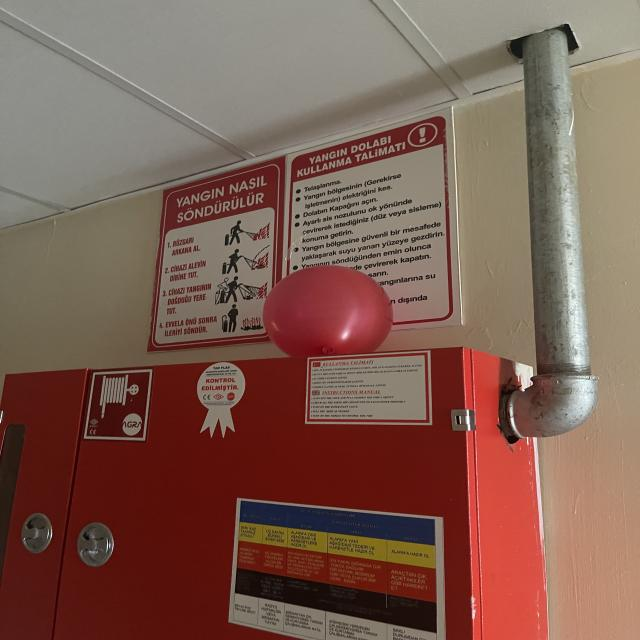balloon: (263, 266, 393, 357)
